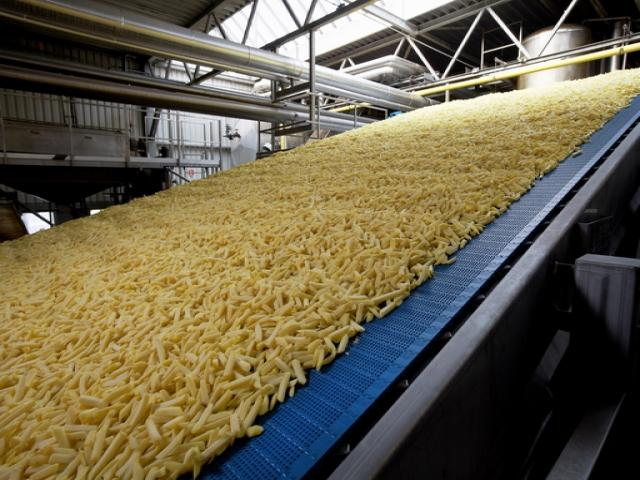conveyor: (0, 62, 639, 479)
